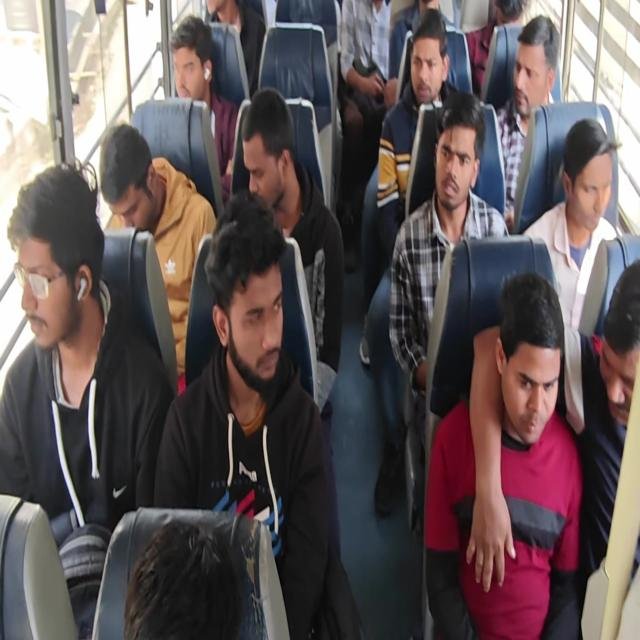person: (107, 506, 272, 640), (0, 167, 102, 351), (210, 230, 291, 386), (496, 288, 572, 454), (99, 131, 166, 237), (236, 102, 296, 213), (600, 275, 640, 423), (568, 125, 615, 243), (162, 21, 218, 103), (436, 130, 475, 213), (508, 46, 556, 111), (412, 36, 442, 110), (483, 0, 525, 44), (197, 0, 253, 29)
